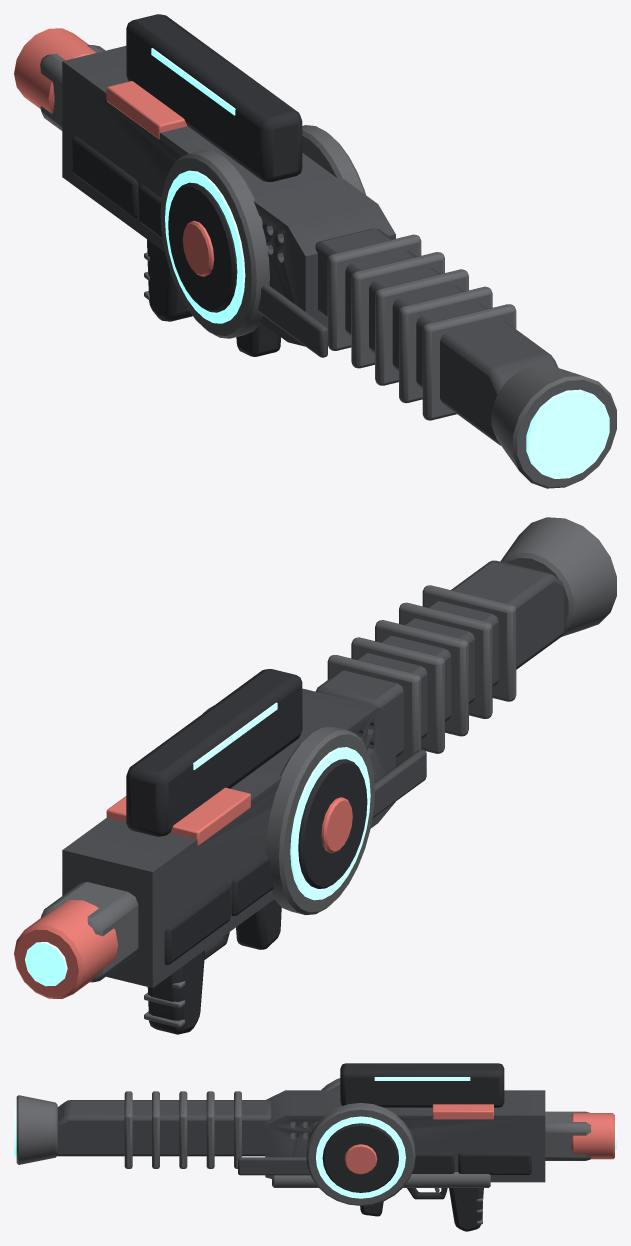
Rendered from beamCannon.glb.
3 views of the same model, one above another, from view 1: azimuth 30°, elevation 25°; view 2: azimuth 150°, elevation 25°; view 3: azimuth 270°, elevation 25° (orthographic). The views are drawn at different scales.
Visible parts, largest first — view 1: receiver.003, topHousing, barrelShroud, disc, emitter, emitterGlow, discCore, capacitorCap, coolingFin.004, coolingFin, coolingFin.002, coolingFin.001 (+12 smaller); view 2: receiver.003, topHousing, barrelShroud, emitter, disc, capacitorCap, discCore, capacitor, coolingFin.004, coolingFin.003, coolingFin.002, coolingFin.001 (+11 smaller); view 3: receiver.003, barrelShroud, topHousing, discCore.001, disc.001, emitter, capacitor, discRing.001, feedLine, capacitorCap, plate.035, discArm.001 (+12 smaller).
Boxes of the visible parts, box(x1,y1,x2,y2) form: receiver.003: box(62, 46, 395, 346); topHousing: box(126, 14, 302, 181); barrelShroud: box(315, 228, 558, 445); disc: box(160, 150, 269, 338); emitter: box(491, 364, 616, 488); emitterGlow: box(526, 389, 609, 478); discCore: box(168, 182, 237, 312); capacitorCap: box(14, 28, 96, 113); coolingFin.004: box(422, 304, 516, 420); coolingFin: box(327, 234, 421, 350); coolingFin.002: box(375, 269, 468, 385); coolingFin.001: box(351, 252, 444, 368); receiver.003: box(62, 688, 395, 987); topHousing: box(126, 669, 302, 836); barrelShroud: box(315, 560, 564, 757); emitter: box(500, 517, 616, 636); disc: box(265, 726, 374, 914); capacitorCap: box(14, 900, 118, 998); discCore: box(298, 759, 367, 888); capacitor: box(40, 882, 138, 982); coolingFin.004: box(422, 585, 516, 701); coolingFin.003: box(399, 602, 492, 718); coolingFin.002: box(375, 620, 468, 736); coolingFin.001: box(351, 637, 444, 753); receiver.003: box(265, 1090, 545, 1182); barrelShroud: box(55, 1100, 271, 1156); topHousing: box(340, 1063, 504, 1107); discCore.001: box(322, 1123, 398, 1192); disc.001: box(306, 1103, 415, 1205); emitter: box(16, 1095, 57, 1164); capacitor: box(545, 1111, 591, 1160); discRing.001: box(316, 1116, 405, 1198); feedLine: box(272, 1172, 490, 1187); capacitorCap: box(571, 1113, 614, 1159); plate.035: box(458, 1152, 531, 1174); discArm.001: box(238, 1157, 310, 1175).
Size of the model in its own units: 0.7 by 1.3 by 4.41.
